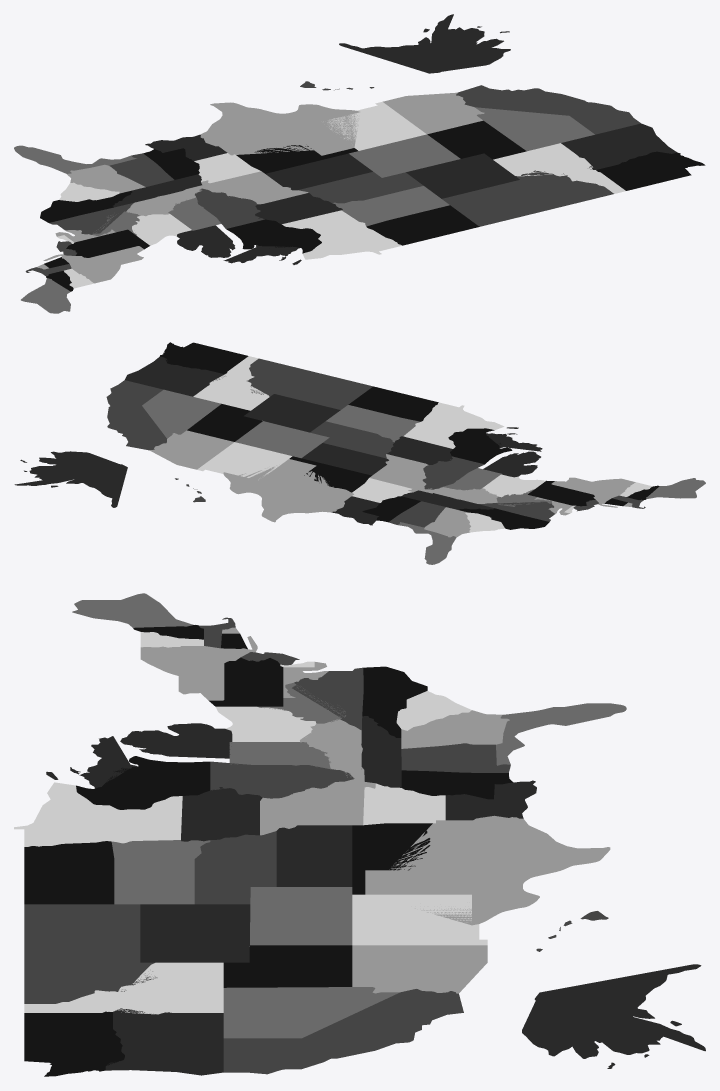
File: US_States_2D_V1.fbx
3 views of the same model, one above another, from view 1: azimuth 30°, elevation 25°; view 2: azimuth 150°, elevation 25°; view 3: azimuth 270°, elevation 25° (orthographic). The views are drawn at different scales.
Visible parts, largest first — view 1: Texas_2D_V1, Montana_2D_V1, Alaska_2D_V1, California_2D_V1, Nevada_2D_V1, Minnesota_2D_V1, Wyoming_2D_V1, Oregon_2D_V1, Idaho_2D_V1, Colorado_2D_V1, Arizona_2D_V1, New_Mexico_2D_V1 (+29 smaller); view 2: Texas_2D_V1, Montana_2D_V1, Alaska_2D_V1, California_2D_V1, Nevada_2D_V1, Minnesota_2D_V1, Oregon_2D_V1, Wyoming_2D_V1, Idaho_2D_V1, New_Mexico_2D_V1, Colorado_2D_V1, Arizona_2D_V1 (+29 smaller); view 3: Texas_2D_V1, Montana_2D_V1, Alaska_2D_V1, California_2D_V1, Nevada_2D_V1, Minnesota_2D_V1, Oregon_2D_V1, Wyoming_2D_V1, New_Mexico_2D_V1, Idaho_2D_V1, Colorado_2D_V1, Arizona_2D_V1 (+29 smaller).
Part boxes in pixels (bbox=[...]): Texas_2D_V1: bbox=[200, 102, 359, 155]; Montana_2D_V1: bbox=[442, 170, 613, 226]; Alaska_2D_V1: bbox=[339, 14, 510, 73]; California_2D_V1: bbox=[456, 85, 640, 134]; Nevada_2D_V1: bbox=[475, 107, 594, 151]; Minnesota_2D_V1: bbox=[282, 210, 401, 259]; Wyoming_2D_V1: bbox=[406, 153, 519, 198]; Oregon_2D_V1: bbox=[561, 123, 677, 169]; Idaho_2D_V1: bbox=[493, 143, 625, 193]; Colorado_2D_V1: bbox=[349, 134, 460, 177]; Arizona_2D_V1: bbox=[383, 92, 484, 134]; New_Mexico_2D_V1: bbox=[323, 101, 426, 150]; Texas_2D_V1: bbox=[223, 459, 353, 522]; Montana_2D_V1: bbox=[247, 358, 372, 409]; Alaska_2D_V1: bbox=[14, 451, 127, 507]; California_2D_V1: bbox=[106, 380, 166, 450]; Nevada_2D_V1: bbox=[142, 389, 221, 438]; Minnesota_2D_V1: bbox=[403, 402, 504, 448]; Oregon_2D_V1: bbox=[125, 356, 224, 396]; Wyoming_2D_V1: bbox=[244, 394, 340, 432]; Idaho_2D_V1: bbox=[193, 356, 269, 410]; New_Mexico_2D_V1: bbox=[197, 442, 292, 480]; Colorado_2D_V1: bbox=[235, 421, 329, 458]; Arizona_2D_V1: bbox=[149, 430, 234, 469]; Texas_2D_V1: bbox=[365, 815, 610, 925]; Montana_2D_V1: bbox=[24, 904, 157, 1003]; Alaska_2D_V1: bbox=[522, 964, 705, 1068]; California_2D_V1: bbox=[223, 989, 463, 1074]; Nevada_2D_V1: bbox=[223, 987, 399, 1038]; Minnesota_2D_V1: bbox=[14, 782, 182, 846]; Oregon_2D_V1: bbox=[105, 1008, 223, 1075]; Wyoming_2D_V1: bbox=[140, 904, 250, 962]; New_Mexico_2D_V1: bbox=[352, 894, 487, 945]; Idaho_2D_V1: bbox=[24, 962, 223, 1014]; Colorado_2D_V1: bbox=[250, 887, 352, 945]; Arizona_2D_V1: bbox=[352, 945, 487, 993].
Bounding box in the file's own units: 922 × 0 × 558.
